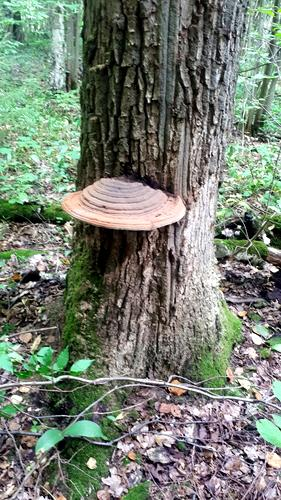Ganoderma - Fruit Body: (62, 169, 191, 232)
